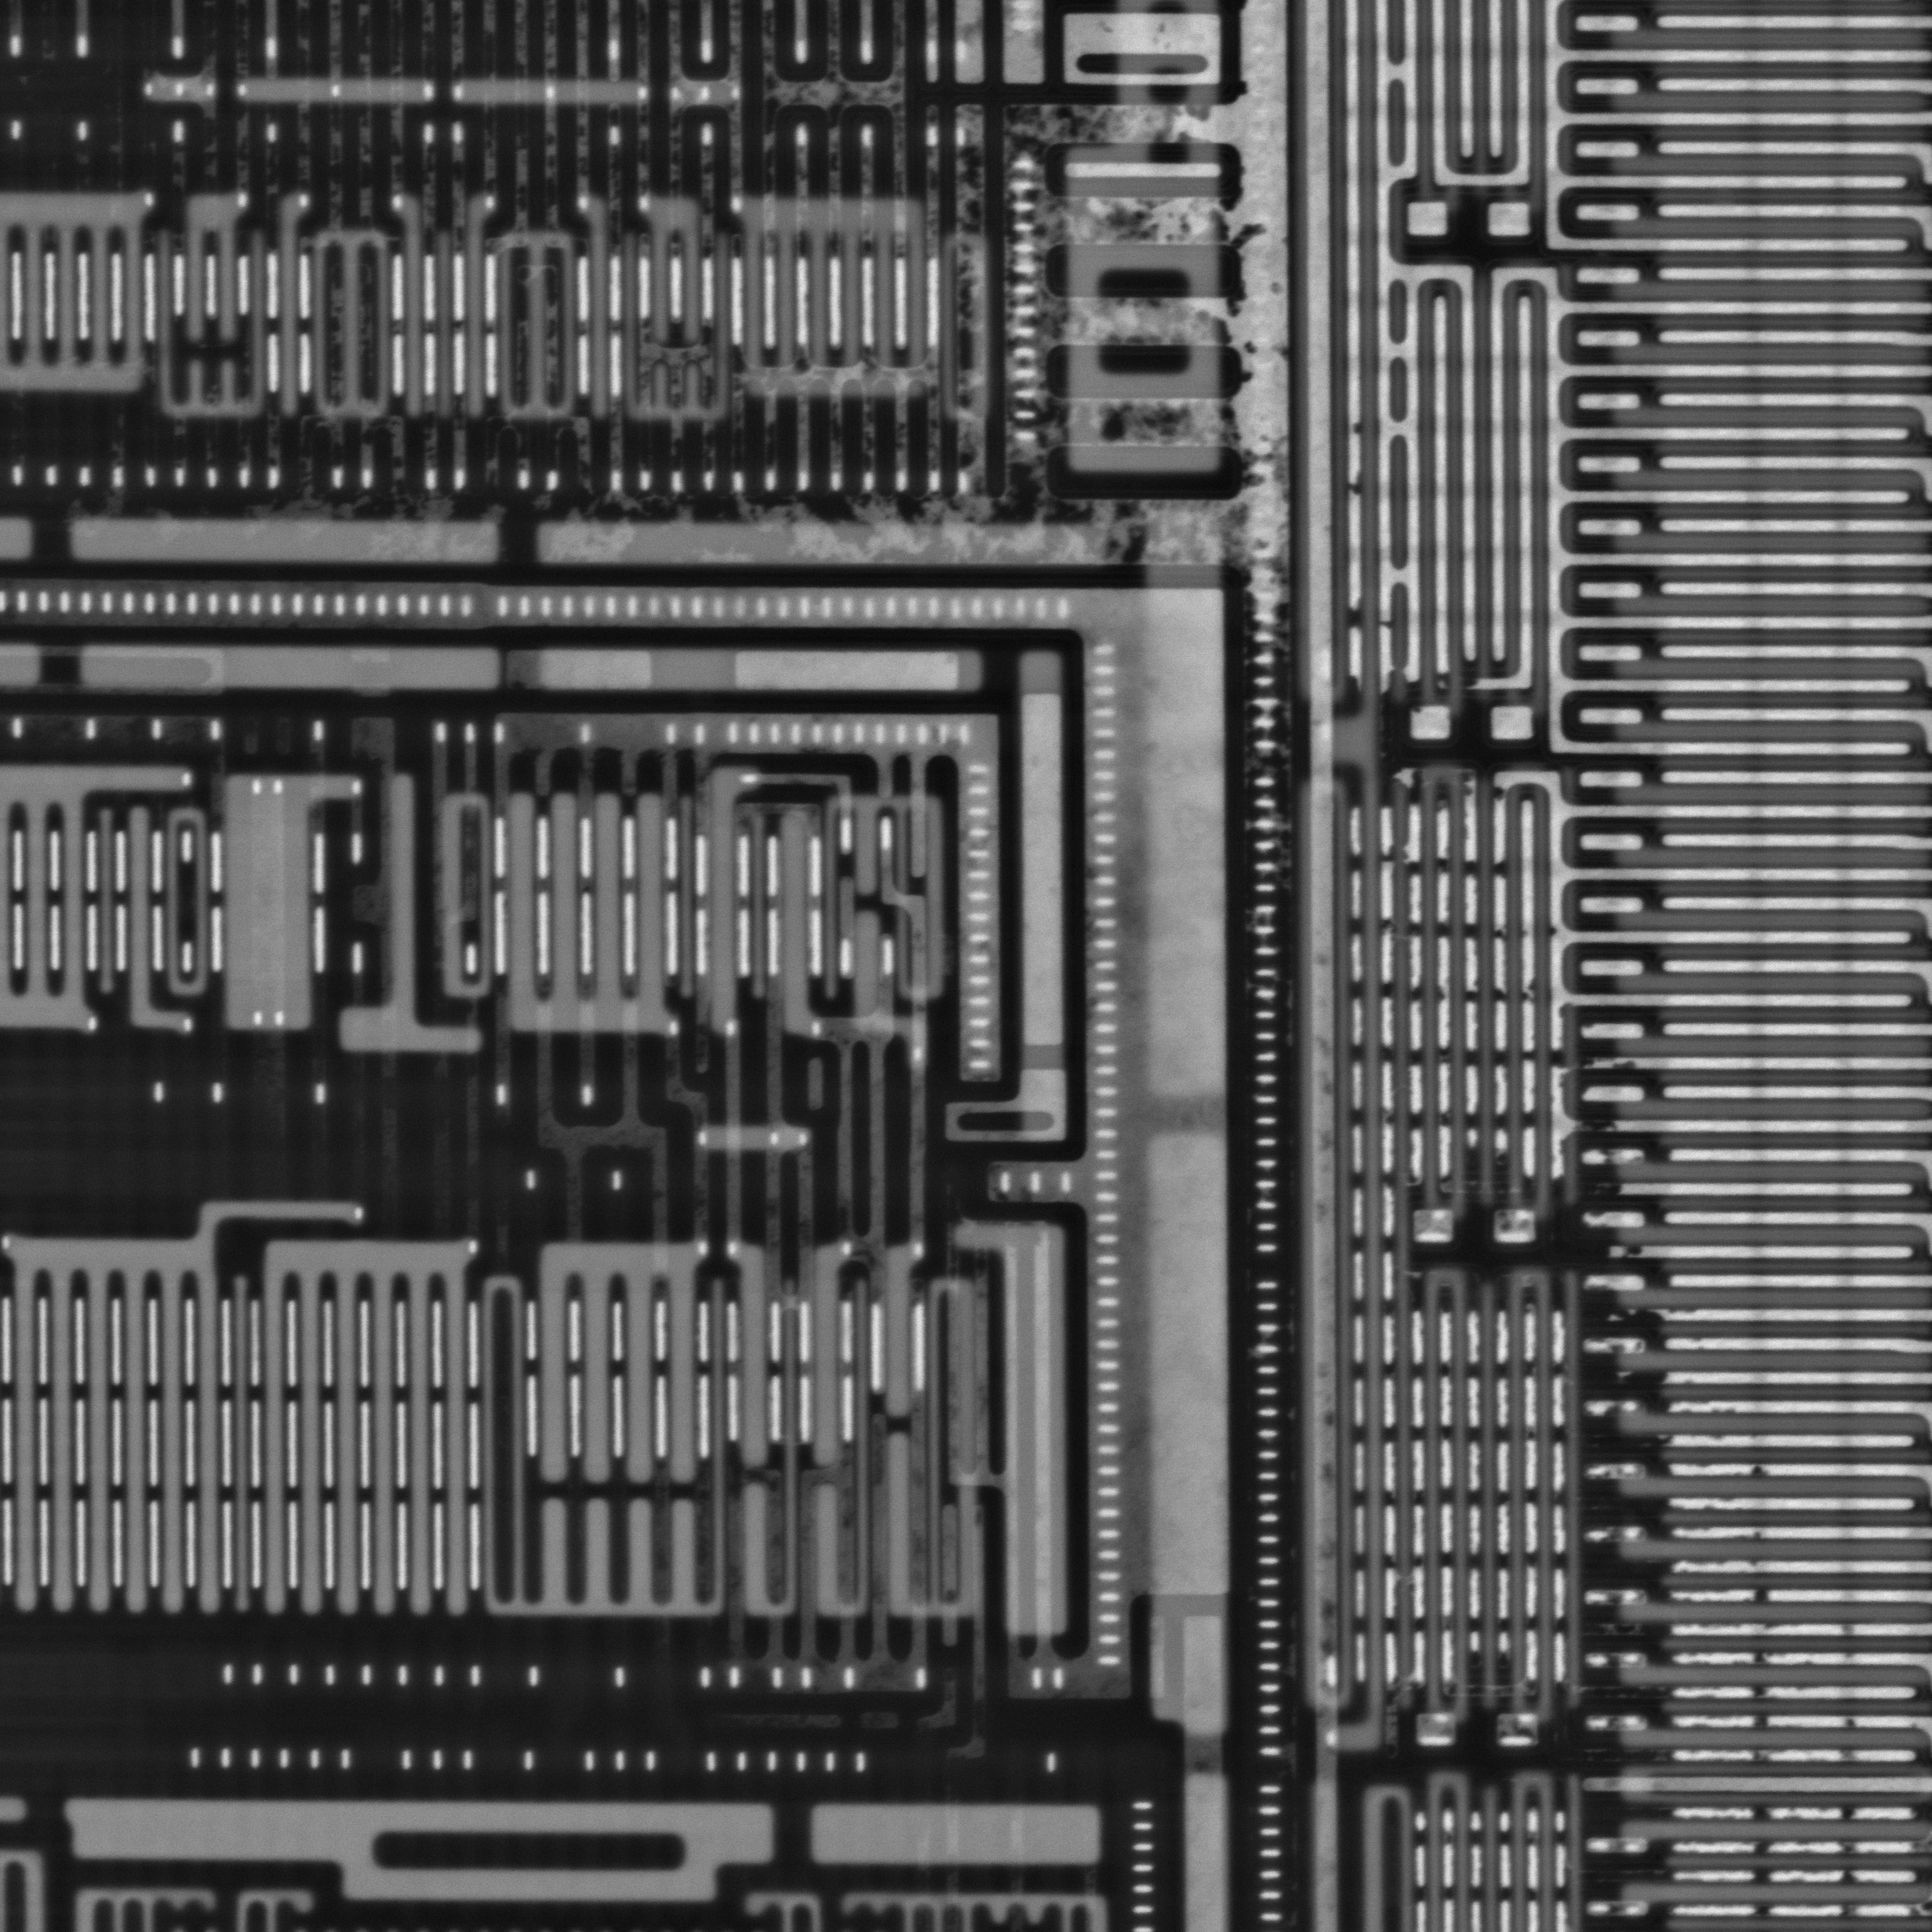multiGate: (2, 1200, 375, 1622), (249, 1233, 479, 1619), (494, 787, 681, 1047), (524, 1233, 709, 1490)
singleGate: (211, 766, 366, 1040), (113, 807, 195, 1040)
